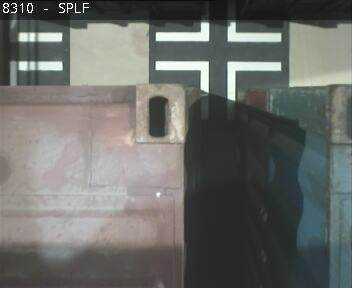groundmarker_1: (155, 60, 281, 119), (155, 1, 281, 42), (8, 11, 62, 84)
